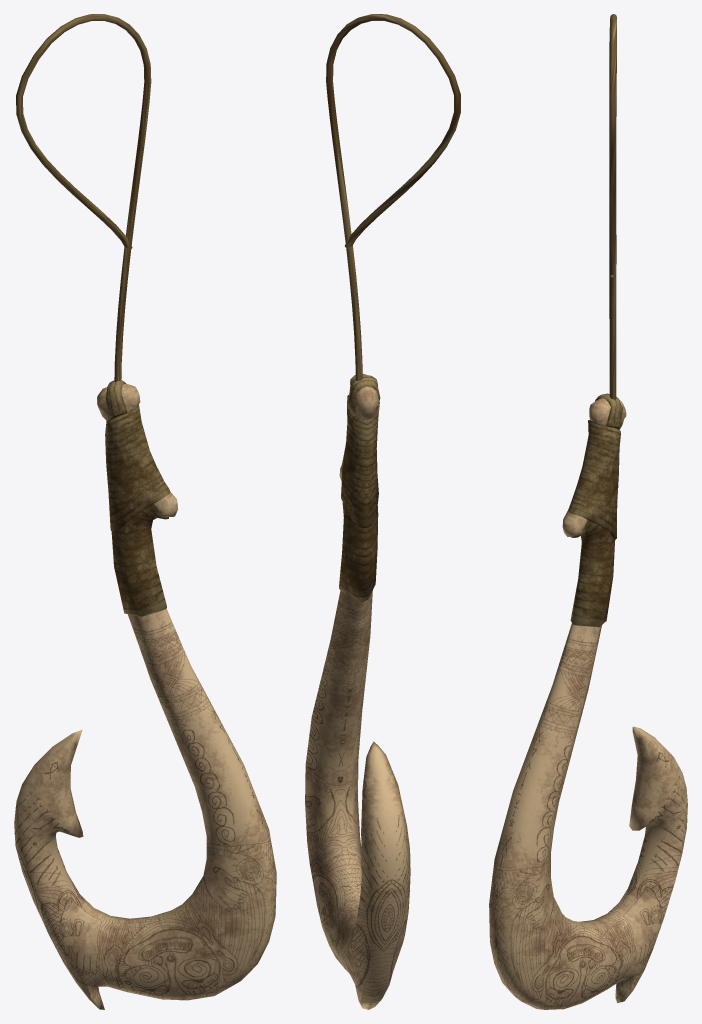
The picture shows the model from 3 angles, left to right: view 1: azimuth 30°, elevation 25°; view 2: azimuth 150°, elevation 25°; view 3: azimuth 270°, elevation 25°; orthographic projection. The views are drawn at different scales.
Parts seen in each view (by area): view 1: 0003_standing; view 2: 0003_standing; view 3: 0003_standing.
Boxes of the visible parts, bbox=[...] form: 0003_standing: bbox=[14, 14, 276, 1009]; 0003_standing: bbox=[305, 14, 460, 1009]; 0003_standing: bbox=[489, 14, 687, 1009].
Size of the model in its own units: 202 by 942 by 174.
